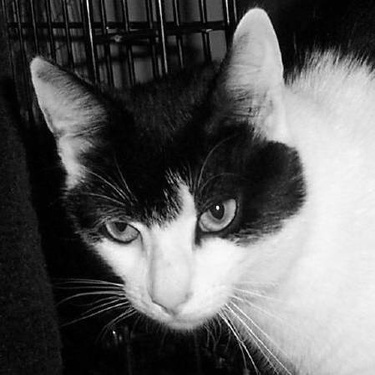cat: (16, 2, 351, 327)
